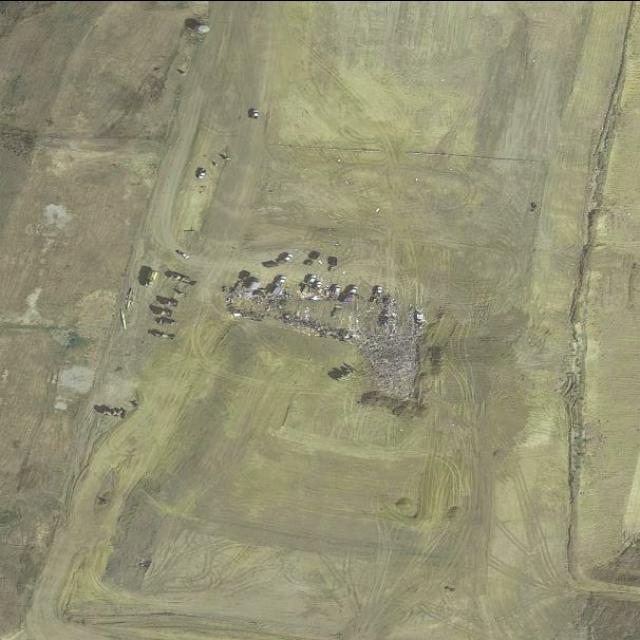dump_site: (215, 268, 361, 348), (362, 284, 436, 400)
